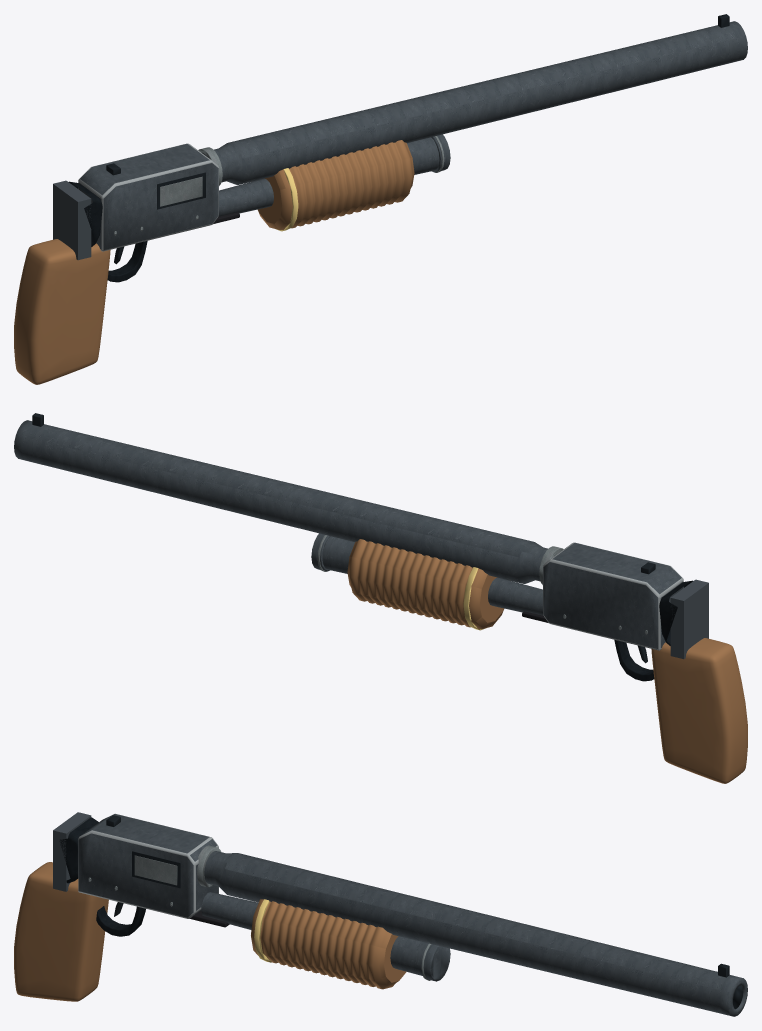
File: pump_short.glb
The picture shows the model from 3 angles, top to bottom: view 1: azimuth 30°, elevation 25°; view 2: azimuth 150°, elevation 25°; view 3: azimuth 330°, elevation 25°; orthographic projection.
Parts seen in each view (by area): view 1: Frame, Pump; view 2: Frame, Pump; view 3: Frame, Pump.
Part boxes in pixels (x1,y1,x2,y2): Frame: [14, 14, 747, 384]; Pump: [258, 140, 414, 231]; Frame: [14, 413, 747, 783]; Pump: [347, 539, 503, 630]; Frame: [14, 812, 747, 1016]; Pump: [251, 899, 406, 989].
Bounding box in the file's own units: 0.68 × 0.1757 × 0.0655.
Materials: 9 (3 with a texture image).
